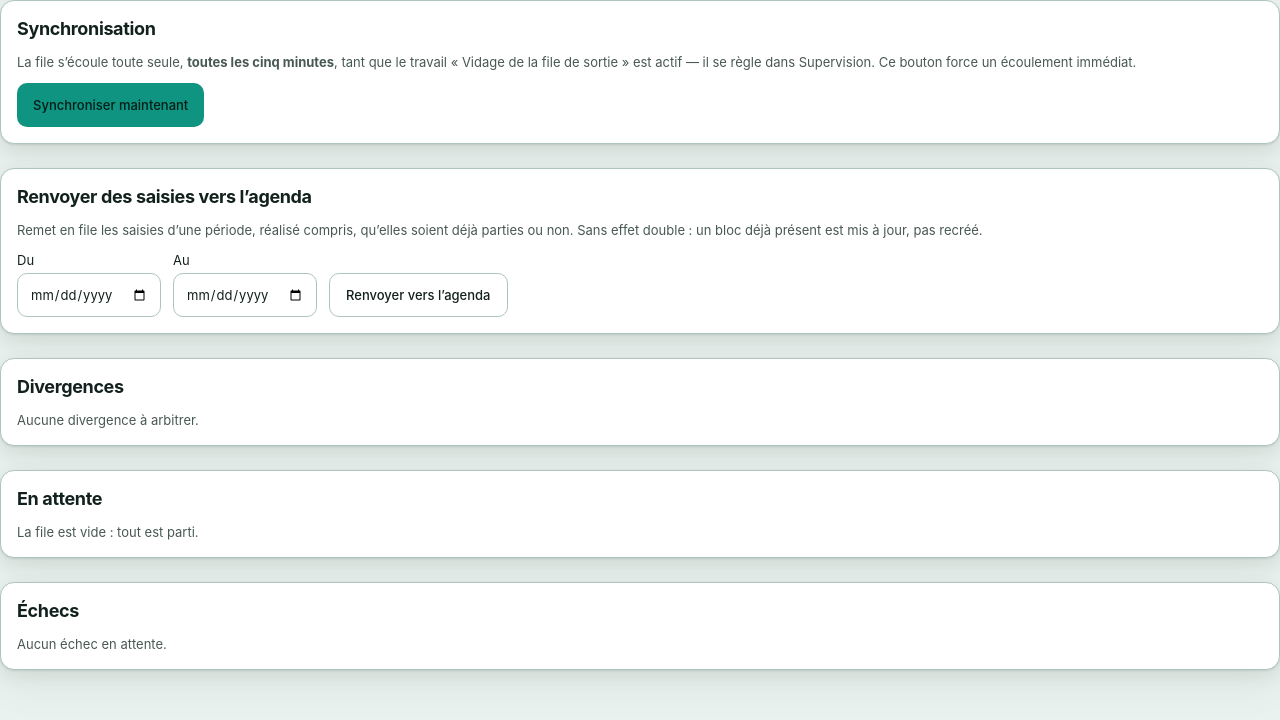
synchroniser maintenant › le dit quand aucun connecteur n est joignable
This screenshot has width=1280, height=720.
Click the button "Synchroniser maintenant": (111, 105) [17,83,204,127]
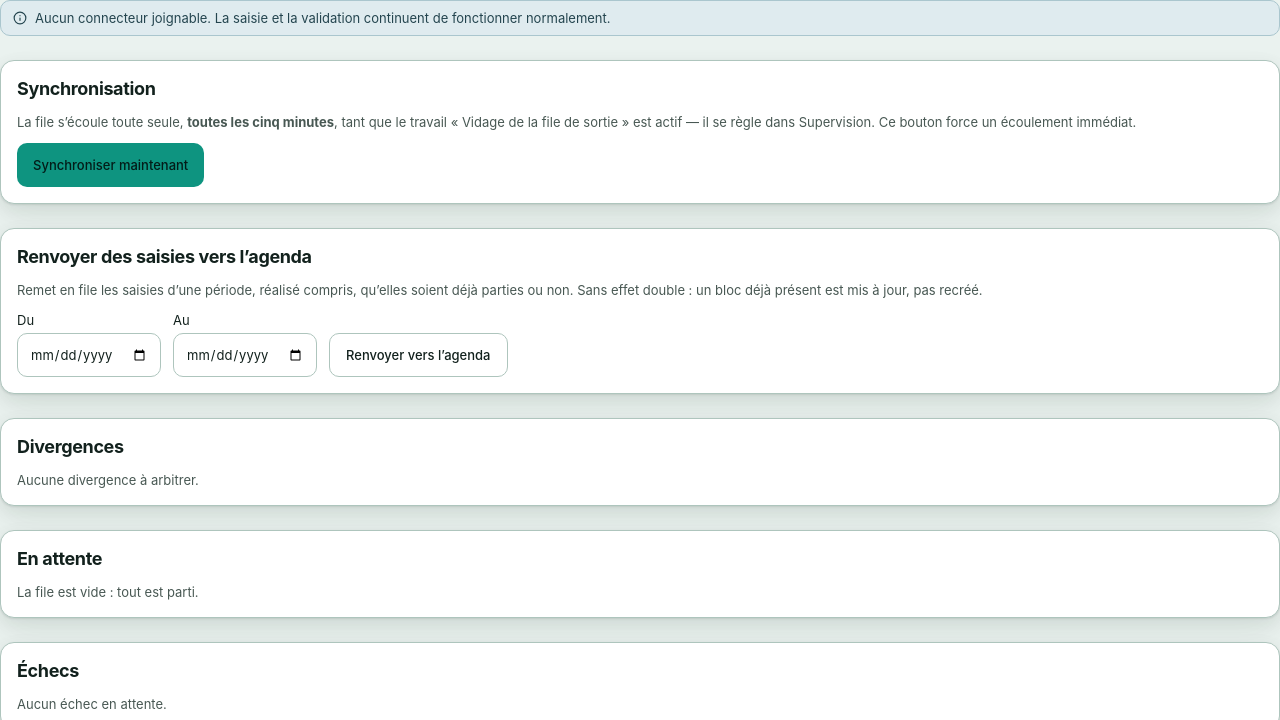
Now the message shows "Aucun connecteur joignable. La saisie et la validation continuent de fonctionner normalement.", box [35,10,611,26]
